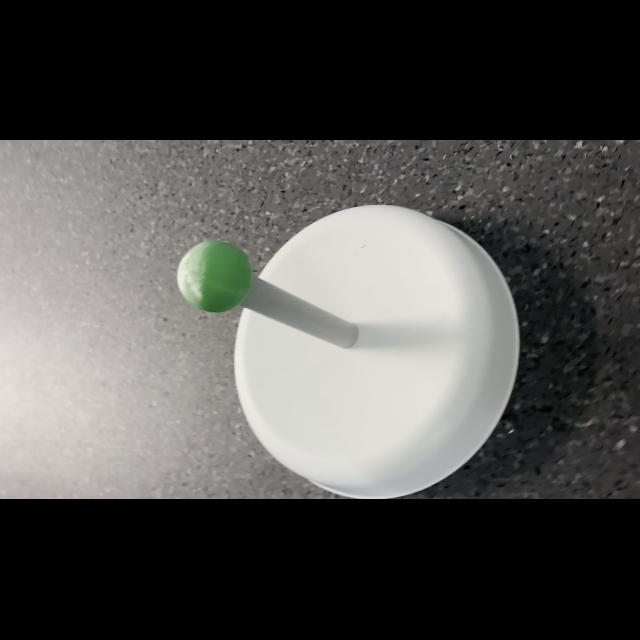objects: (174, 236, 254, 314)
